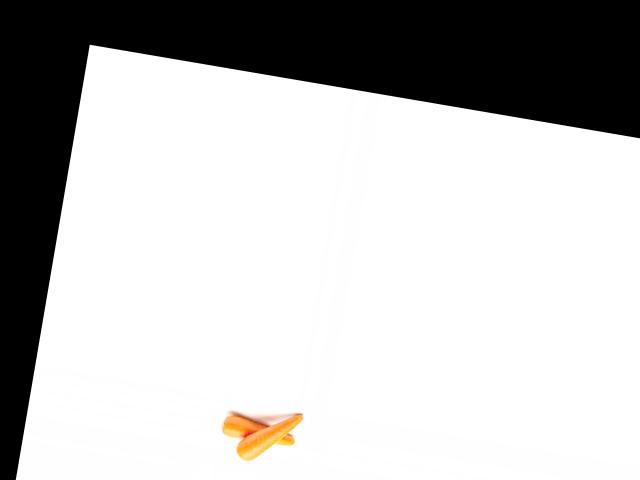carrot: (214, 409, 307, 452)
